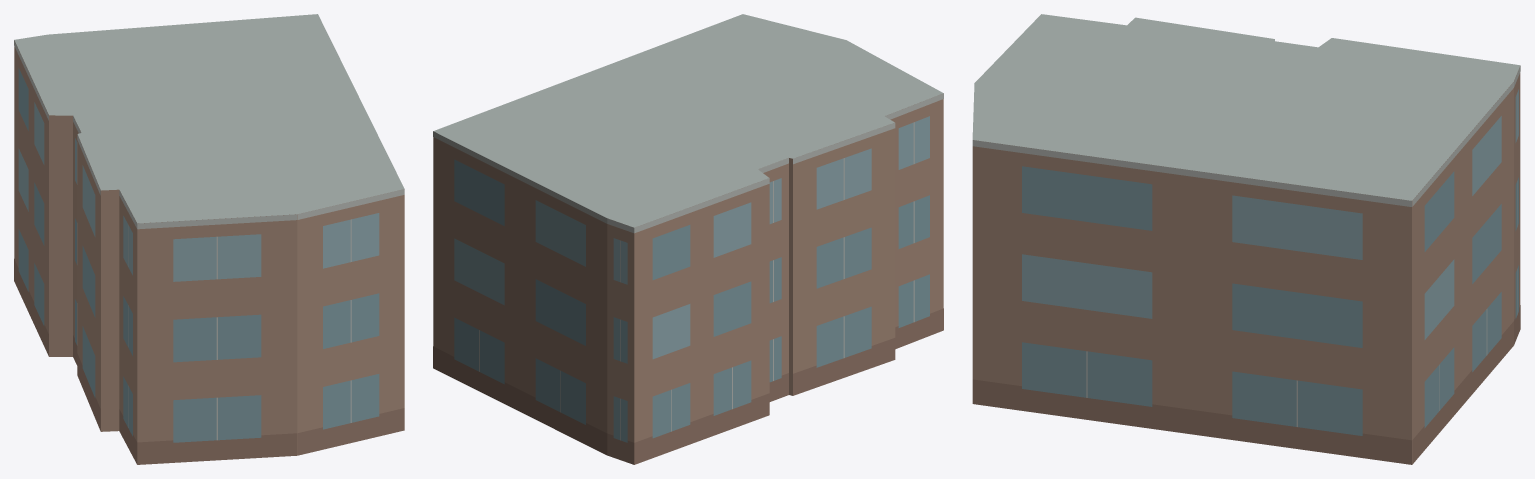
Rendered from survey-upis-32809701.glb.
The picture shows the model from 3 angles, left to right: view 1: azimuth 30°, elevation 25°; view 2: azimuth 150°, elevation 25°; view 3: azimuth 270°, elevation 25°; orthographic projection. The views are drawn at different scales.
Parts seen in each view (by area): view 1: survey-upis-32809701.tmp; view 2: survey-upis-32809701.tmp; view 3: survey-upis-32809701.tmp.
Boxes of the visible parts, <box> form: survey-upis-32809701.tmp: <box>14,14,404,464</box>; survey-upis-32809701.tmp: <box>433,14,943,464</box>; survey-upis-32809701.tmp: <box>972,14,1520,464</box>.
Bounding box in the file's own units: 15.49 × 10.2 × 19.19.
